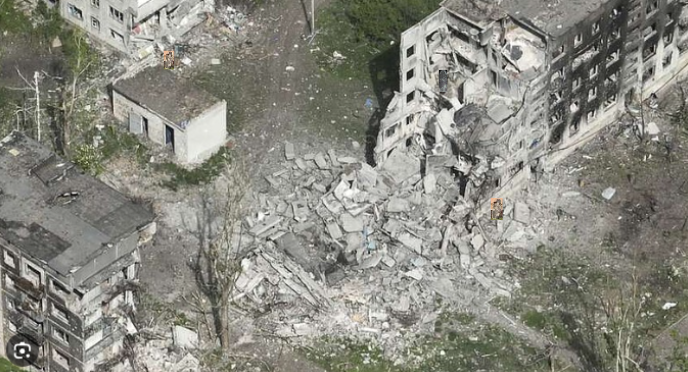HVT1: (493, 199, 503, 219), (165, 52, 174, 69)
